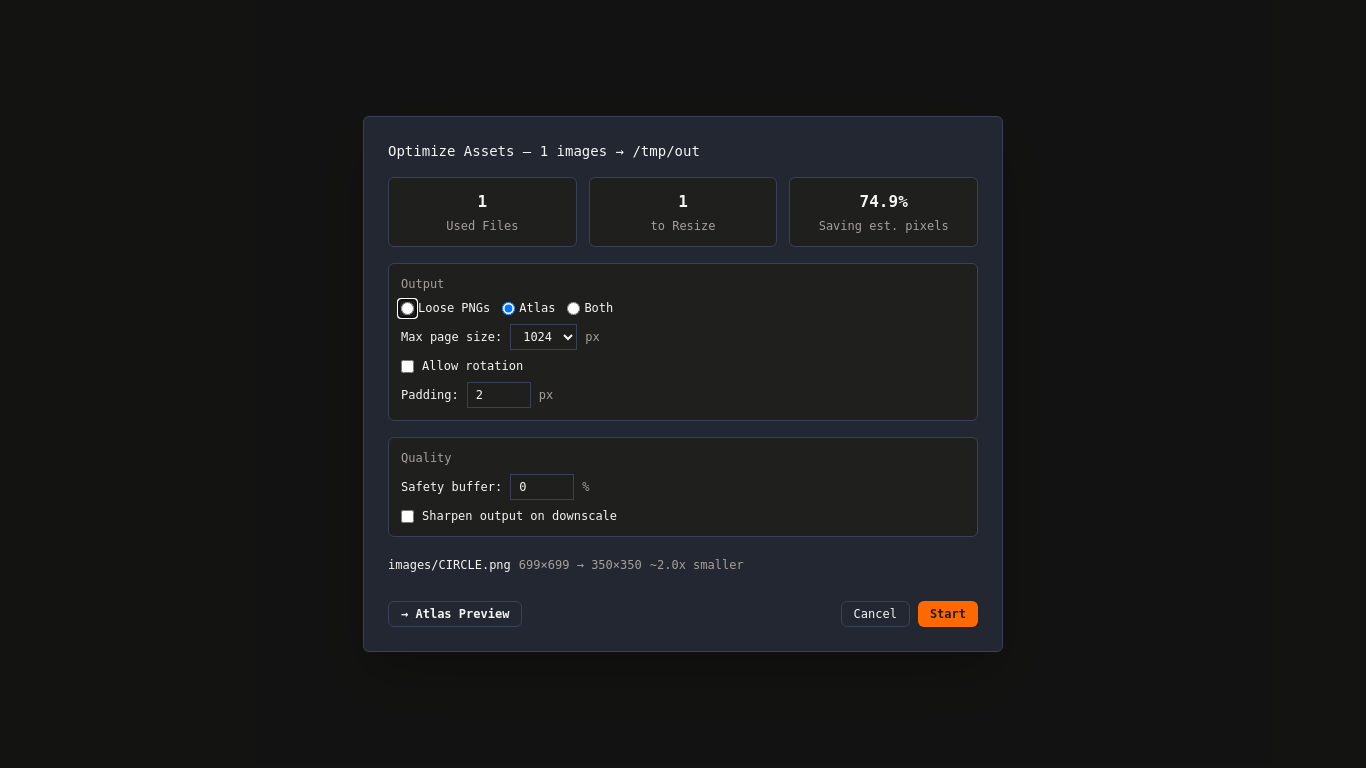
it: OptimizeDialog — Phase 40 Output card (D-01) › REPACK-10 surfacing: response.error.message reaches the summary verbatim
What coordinates should you click on to do the following:
click the button "Start"
I would click on:
 (948, 614)
Its box is [918, 601, 978, 627].
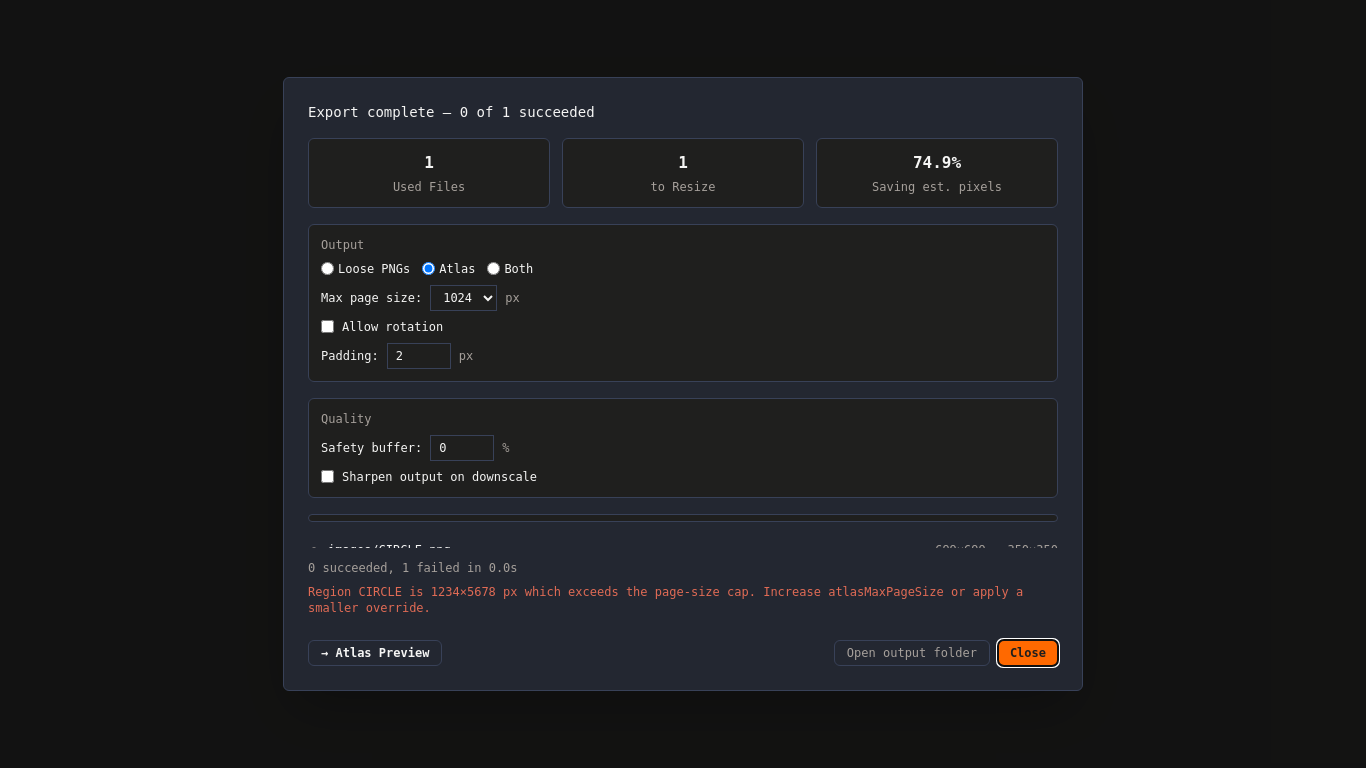
Now the list item "Increase atlasMaxPageSize or apply a smaller override" is shown, box [308, 585, 1023, 615]
